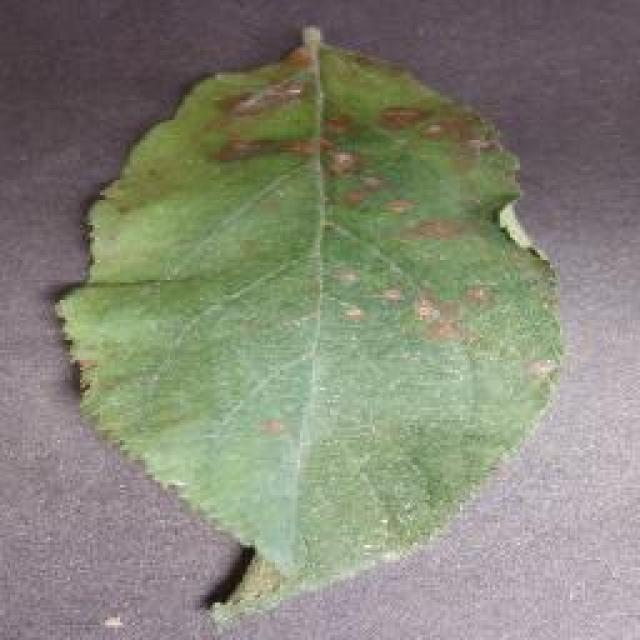apple healthy: (53, 22, 565, 622)
